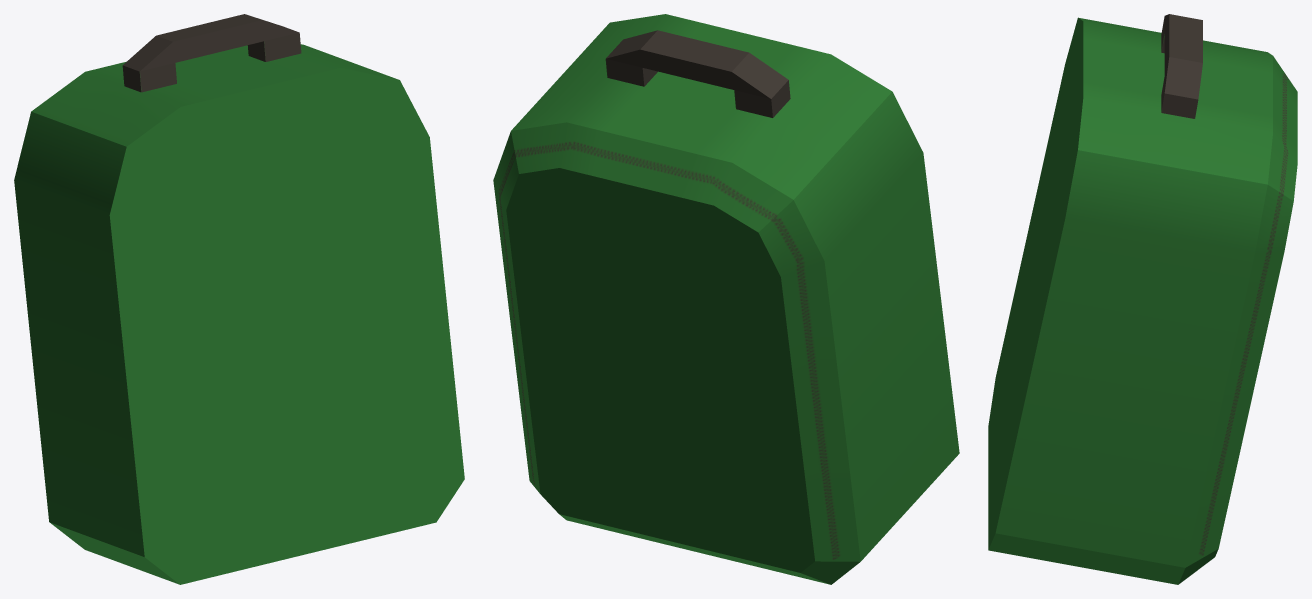
Rendered from Backpack.fbx.
3 views of the same model, side by side, from view 1: azimuth 30°, elevation 25°; view 2: azimuth 150°, elevation 25°; view 3: azimuth 270°, elevation 25° (orthographic). The views are drawn at different scales.
Parts seen in each view (by area): view 1: Backpack1; view 2: Backpack1; view 3: Backpack1.
Boxes of the visible parts, x1,y1,x2,y2 form: Backpack1: (14,14,464,584); Backpack1: (493,14,959,584); Backpack1: (988,14,1297,584).
Size of the model in its own units: 51.26 by 75.1 by 43.19.
